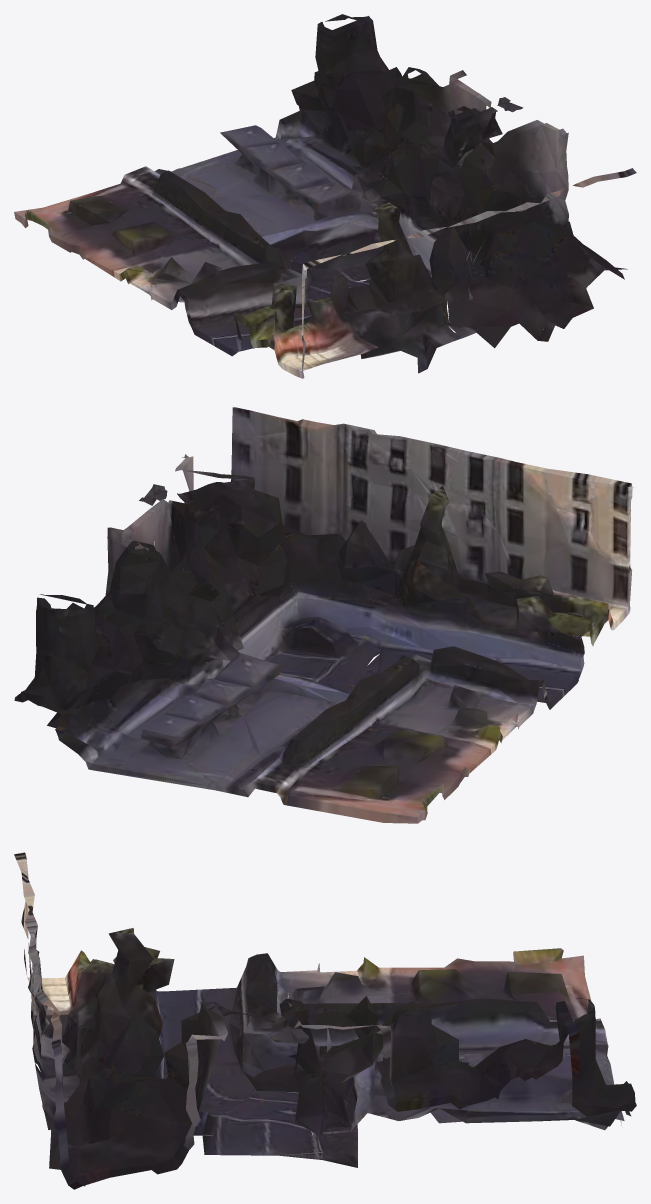
3 renders of one model, top to bottom at view 1: azimuth 30°, elevation 25°; view 2: azimuth 150°, elevation 25°; view 3: azimuth 270°, elevation 25°, orthographic. The views are drawn at different scales.
Parts seen in each view (by area): view 1: Mesh_0; view 2: Mesh_0; view 3: Mesh_0.
Part boxes in pixels (bbox=[...]): Mesh_0: bbox=[14, 14, 636, 378]; Mesh_0: bbox=[14, 407, 635, 823]; Mesh_0: bbox=[14, 852, 636, 1189].
Size of the model in its own units: 33.17 by 12.91 by 39.08.
Materials: 2 (2 with a texture image).
